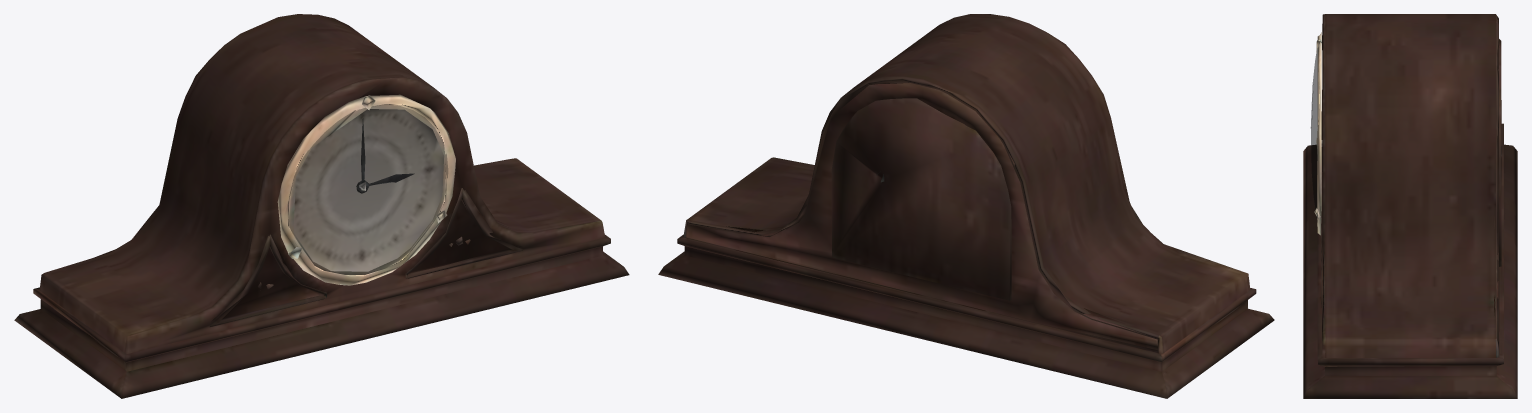
Rendered from mantel_clock_01.glb.
The picture shows the model from 3 angles, left to right: view 1: azimuth 30°, elevation 25°; view 2: azimuth 150°, elevation 25°; view 3: azimuth 270°, elevation 25°; orthographic projection.
Visible parts, largest first — view 1: mantel_clock_01, mantel_clock_01_glass; view 2: mantel_clock_01; view 3: mantel_clock_01, mantel_clock_01_glass.
Part boxes in pixels (left/top/right/bottom): mantel_clock_01: left=14, top=14, right=629, bottom=398; mantel_clock_01_glass: left=288, top=105, right=447, bottom=274; mantel_clock_01: left=658, top=14, right=1274, bottom=398; mantel_clock_01: left=1303, top=14, right=1517, bottom=398; mantel_clock_01_glass: left=1310, top=49, right=1317, bottom=221.
Size of the model in its own units: 0.3418 by 0.1604 by 0.1252.
Materials: 2 (2 with a texture image).
